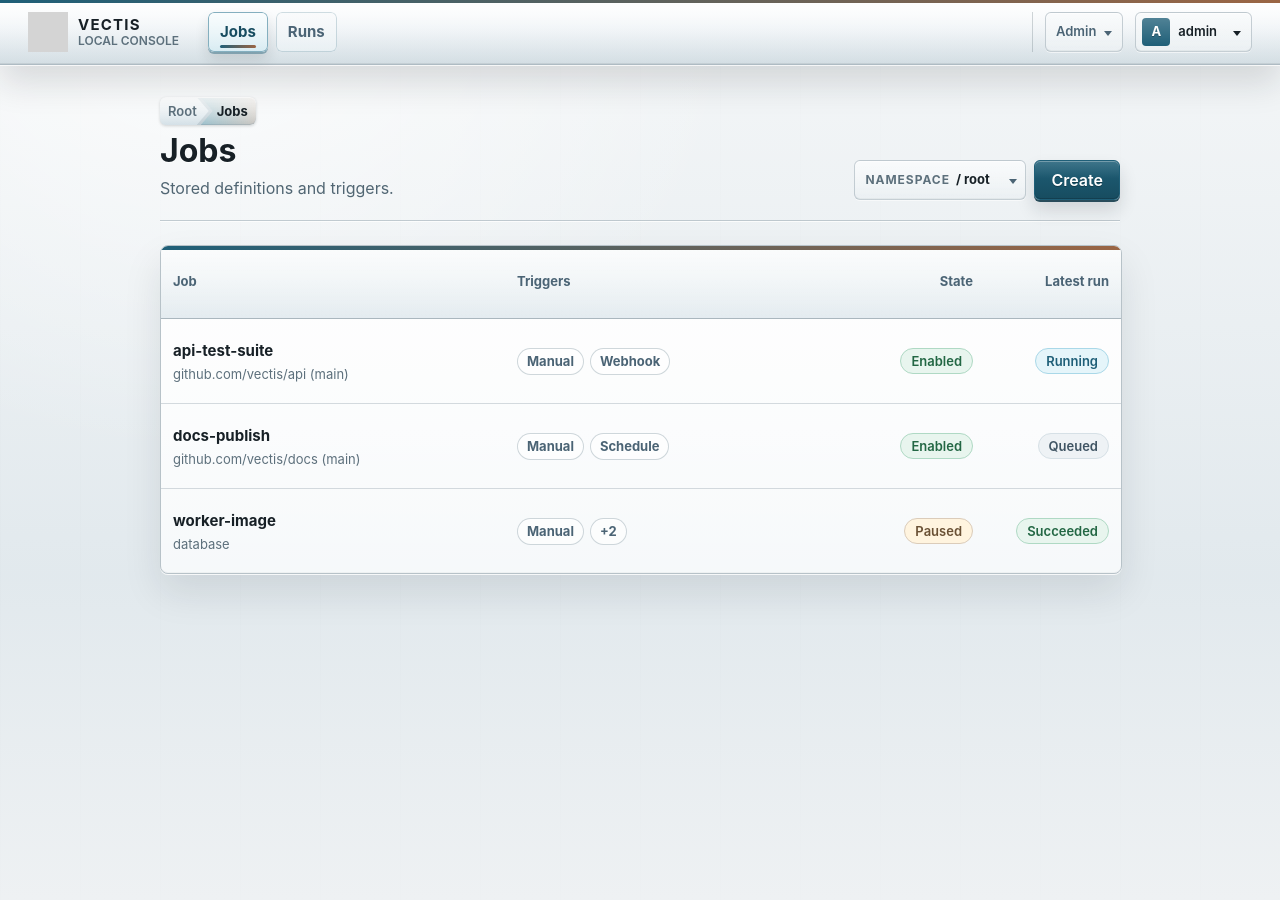
App › opens job creation through browser navigation and backs out
Check: the heading "Jobs" is shown, box [160, 131, 236, 170]
Click the button "Create" at (1077, 180), box [1034, 160, 1120, 200]
(page scrolled)
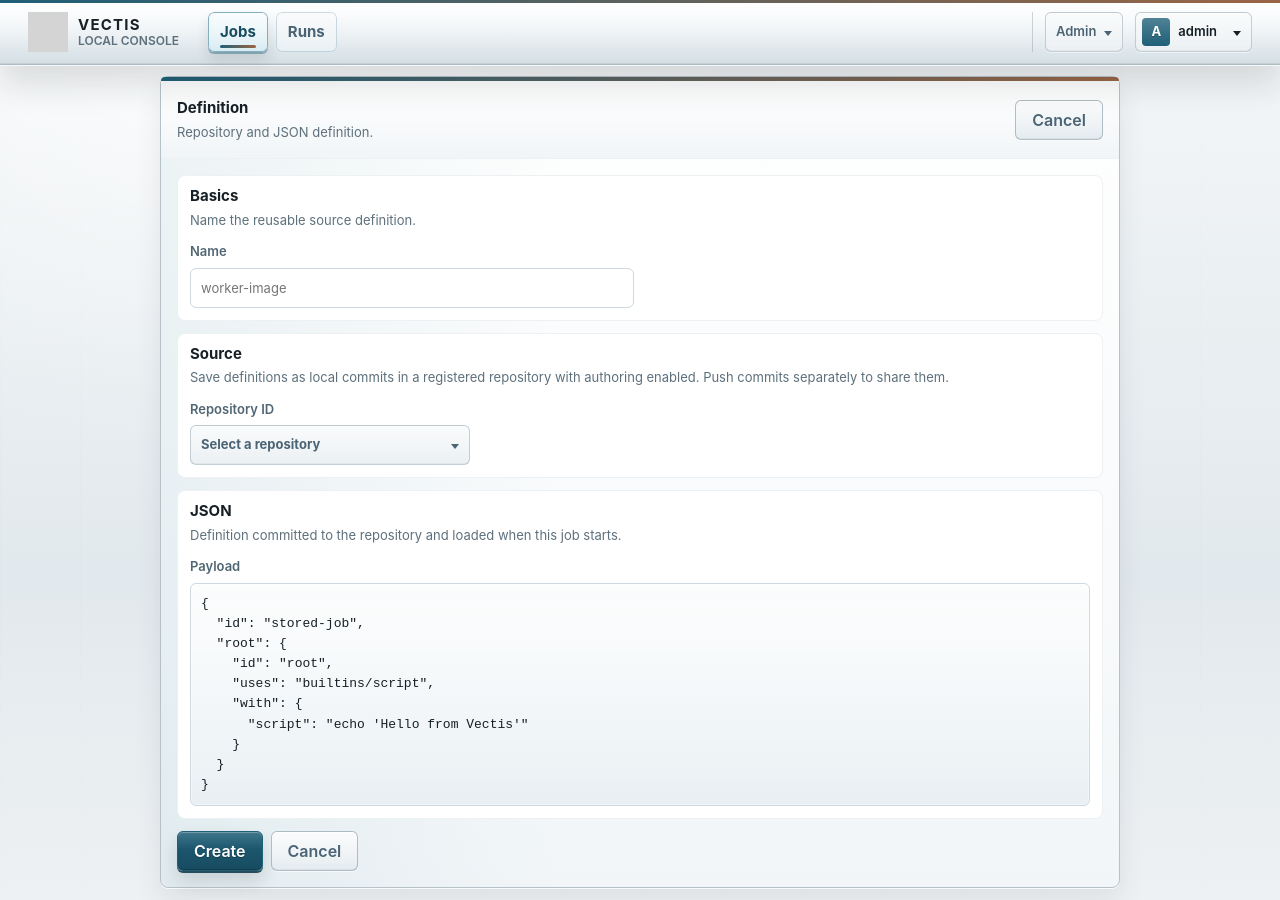
Check: the element "Definition" is shown
Check: the table is gone
